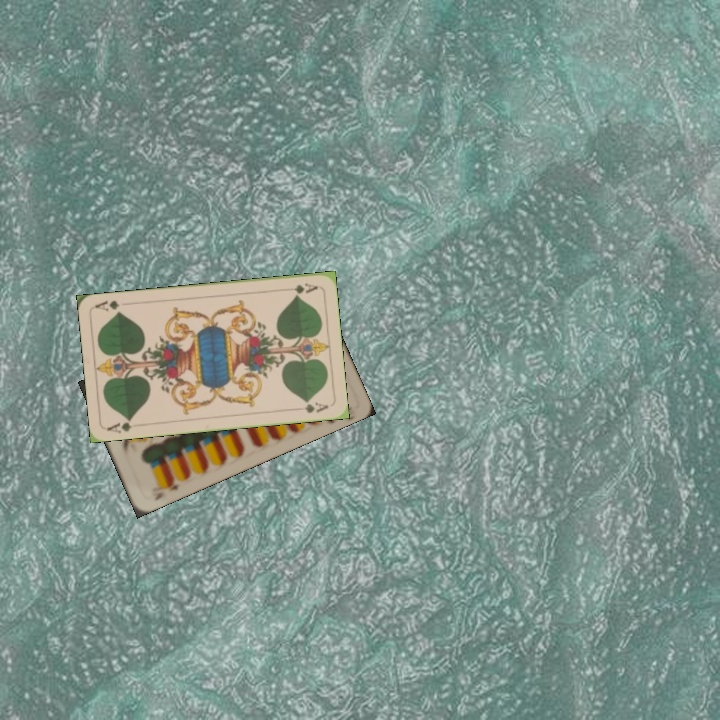E10: (150, 475, 182, 503)
GA: (280, 279, 320, 297), (104, 414, 136, 436)
